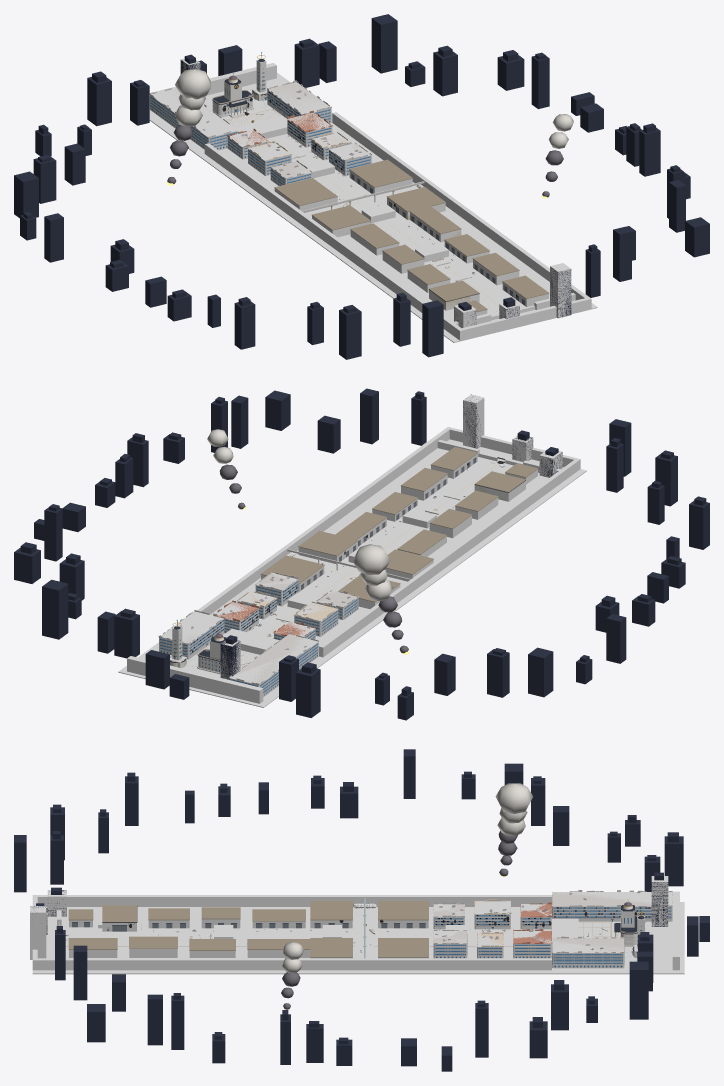
Rendered from m6_route.glb.
The picture shows the model from 3 angles, top to bottom: view 1: azimuth 30°, elevation 25°; view 2: azimuth 150°, elevation 25°; view 3: azimuth 270°, elevation 25°; orthographic projection.
Parts seen in each view (by area): view 1: skyline_far_n_far, COL_ground_001, seg1_depot_d, seg2_depot_d, COL_bounds_105, COL_bounds_106, COL_ground_002, skyline_smoke_l, COL_cityhall_c195, COL_ground_006, COL_bounds_108, cityhall_concrete (+16 smaller); view 2: skyline_far_n_far, COL_ground_001, seg1_depot_d, COL_bounds_105, COL_bounds_106, seg2_depot_d, COL_ground_002, skyline_smoke_l, COL_ground_006, COL_bounds_107, cityhall_concrete, COL_cityhall_c205 (+15 smaller); view 3: skyline_far_n_far, COL_ground_001, COL_bounds_106, COL_bounds_105, seg1_depot_d, seg2_depot_d, COL_ground_002, COL_cityhall_c195, cityhall_concrete, skyline_smoke_l, COL_ground_005, COL_cityhall_c205 (+16 smaller).
Part boxes in pixels (box(x1,y1,x2,y2)): skyline_far_n_far: box(14, 14, 709, 359); COL_ground_001: box(149, 72, 597, 342); seg1_depot_d: box(350, 206, 549, 312); seg2_depot_d: box(274, 159, 445, 230); COL_bounds_105: box(204, 143, 463, 340); COL_bounds_106: box(332, 112, 591, 309); COL_ground_002: box(267, 136, 521, 313); skyline_smoke_l: box(175, 69, 573, 148); COL_cityhall_c195: box(150, 88, 237, 150); COL_ground_006: box(279, 134, 531, 313); COL_bounds_108: box(458, 297, 591, 340); cityhall_concrete: box(149, 77, 331, 137); skyline_far_n_far: box(14, 388, 709, 720); COL_ground_001: box(118, 439, 586, 707); seg1_depot_d: box(335, 447, 538, 554); COL_bounds_105: box(319, 458, 580, 657); COL_bounds_106: box(197, 427, 451, 614); seg2_depot_d: box(260, 531, 433, 602); COL_ground_002: box(255, 459, 508, 638); skyline_smoke_l: box(207, 429, 392, 601); COL_ground_006: box(248, 458, 492, 633); COL_bounds_107: box(127, 656, 263, 703); cityhall_concrete: box(158, 610, 318, 684); COL_cityhall_c205: box(159, 611, 224, 659); skyline_far_n_far: box(14, 749, 709, 1071); COL_ground_001: box(32, 902, 684, 974); COL_bounds_106: box(32, 958, 551, 970); COL_bounds_105: box(32, 895, 551, 906); seg1_depot_d: box(68, 907, 310, 950); seg2_depot_d: box(310, 900, 428, 957); COL_ground_002: box(54, 933, 513, 941); COL_cityhall_c195: box(552, 892, 672, 921); cityhall_concrete: box(552, 890, 672, 952); skyline_smoke_l: box(282, 783, 533, 973); COL_ground_005: box(54, 928, 551, 933); COL_cityhall_c205: box(552, 940, 624, 968).
Bounding box in the file's own units: 548 × 97.88 × 576.
